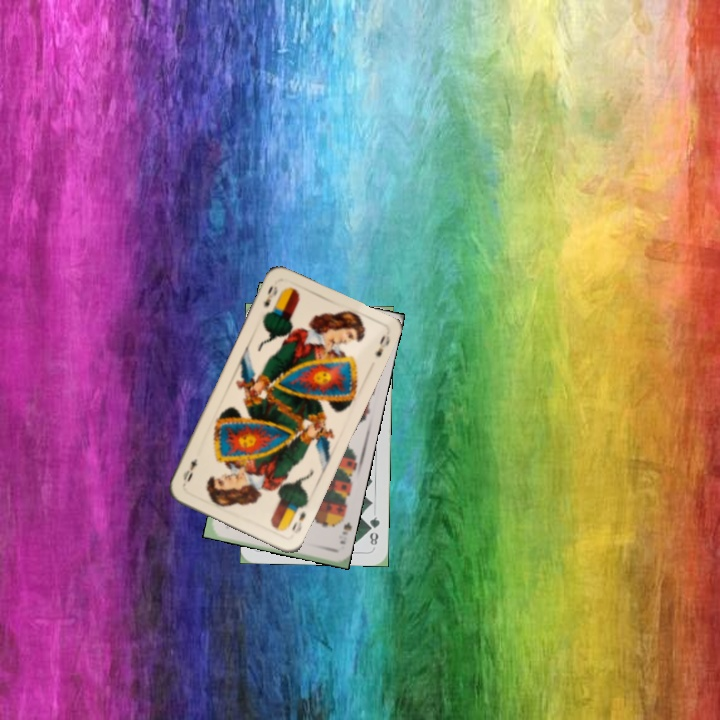EO: (287, 507, 308, 536), (260, 282, 281, 310)
G8: (365, 513, 382, 548)
S9: (333, 510, 353, 547)
